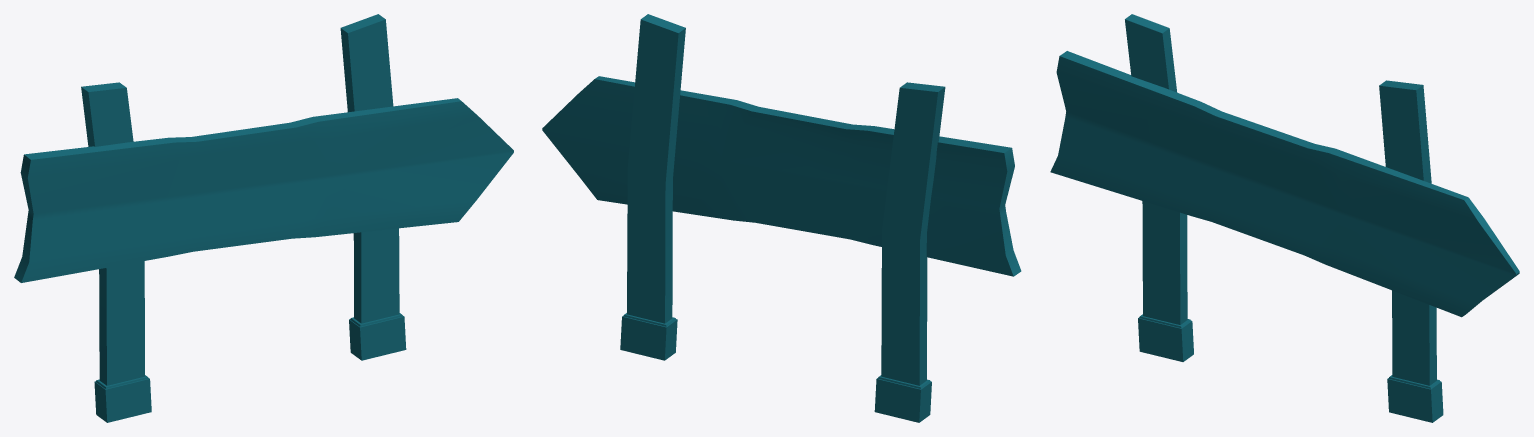
Rendered from pano 2_low.fbx.
3 renders of one model, left to right at view 1: azimuth 30°, elevation 25°; view 2: azimuth 150°, elevation 25°; view 3: azimuth 330°, elevation 25°, orthographic. The views are drawn at different scales.
Visible parts, largest first — view 1: pano_low, piquetpano_low, metalpied_low; view 2: pano_low, piquetpano_low, metalpied_low; view 3: pano_low, piquetpano_low, metalpied_low.
Boxes of the visible parts, x1,y1,x2,y2 form: pano_low: [14, 14, 513, 422]; piquetpano_low: [81, 29, 399, 385]; metalpied_low: [94, 315, 405, 422]; pano_low: [542, 14, 1021, 422]; piquetpano_low: [627, 22, 945, 385]; metalpied_low: [621, 316, 931, 422]; pano_low: [1050, 14, 1519, 416]; piquetpano_low: [1146, 28, 1436, 385]; metalpied_low: [1138, 314, 1443, 422].
Bounding box in the file's own units: 152 × 99.82 × 12.78.
